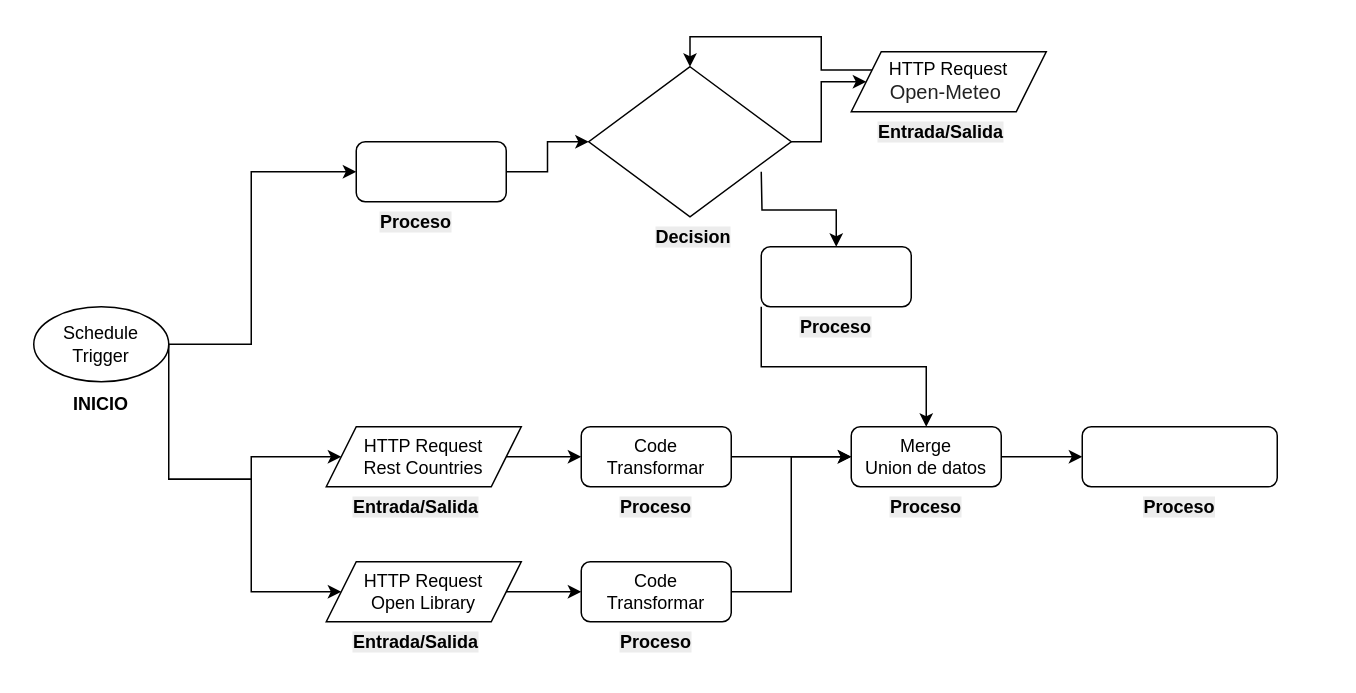
This 1356x693 diagram has some shape labels left out. The box of each missing label's shape, as (x1, y1, x2, y2) in pixels:
Code Definir_Array: (355, 140, 506, 202)
Code Exportacion JSON: (1081, 425, 1277, 487)
Code Procesar datos: (760, 245, 911, 307)
Loop Over Items Iterar por ciudad: (587, 65, 791, 217)
